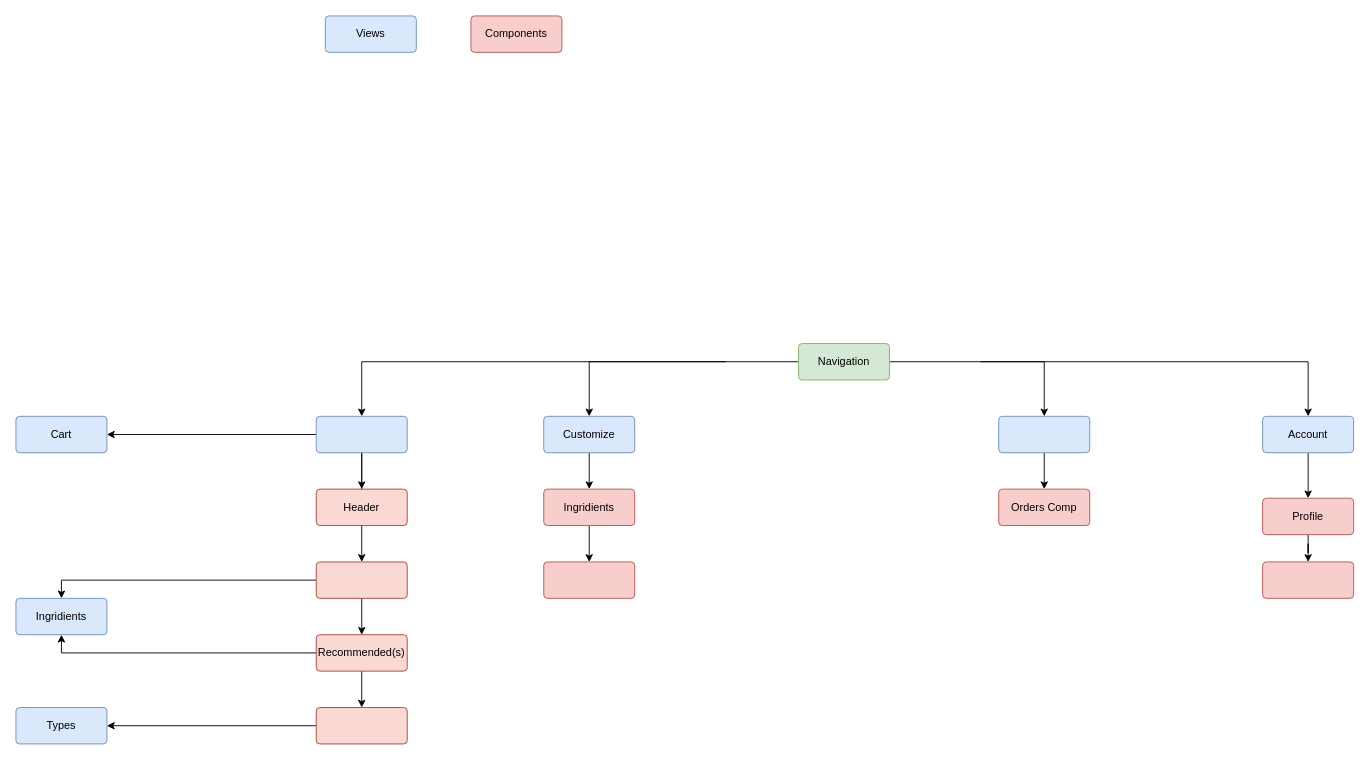
Some shapes in this 1370 by 760 pixel diagram are drawn without their labels. The shapes that lost their labels are listed below. From the top down, each one's centre as x and y in pixels, then its label:
At point 361,434: "Home".
At point 1044,434: "Orders".
At point 361,579: "Salads".
At point 589,579: "Add to cart".
At point 1308,579: "Settings".
At point 361,725: "Drinks".
